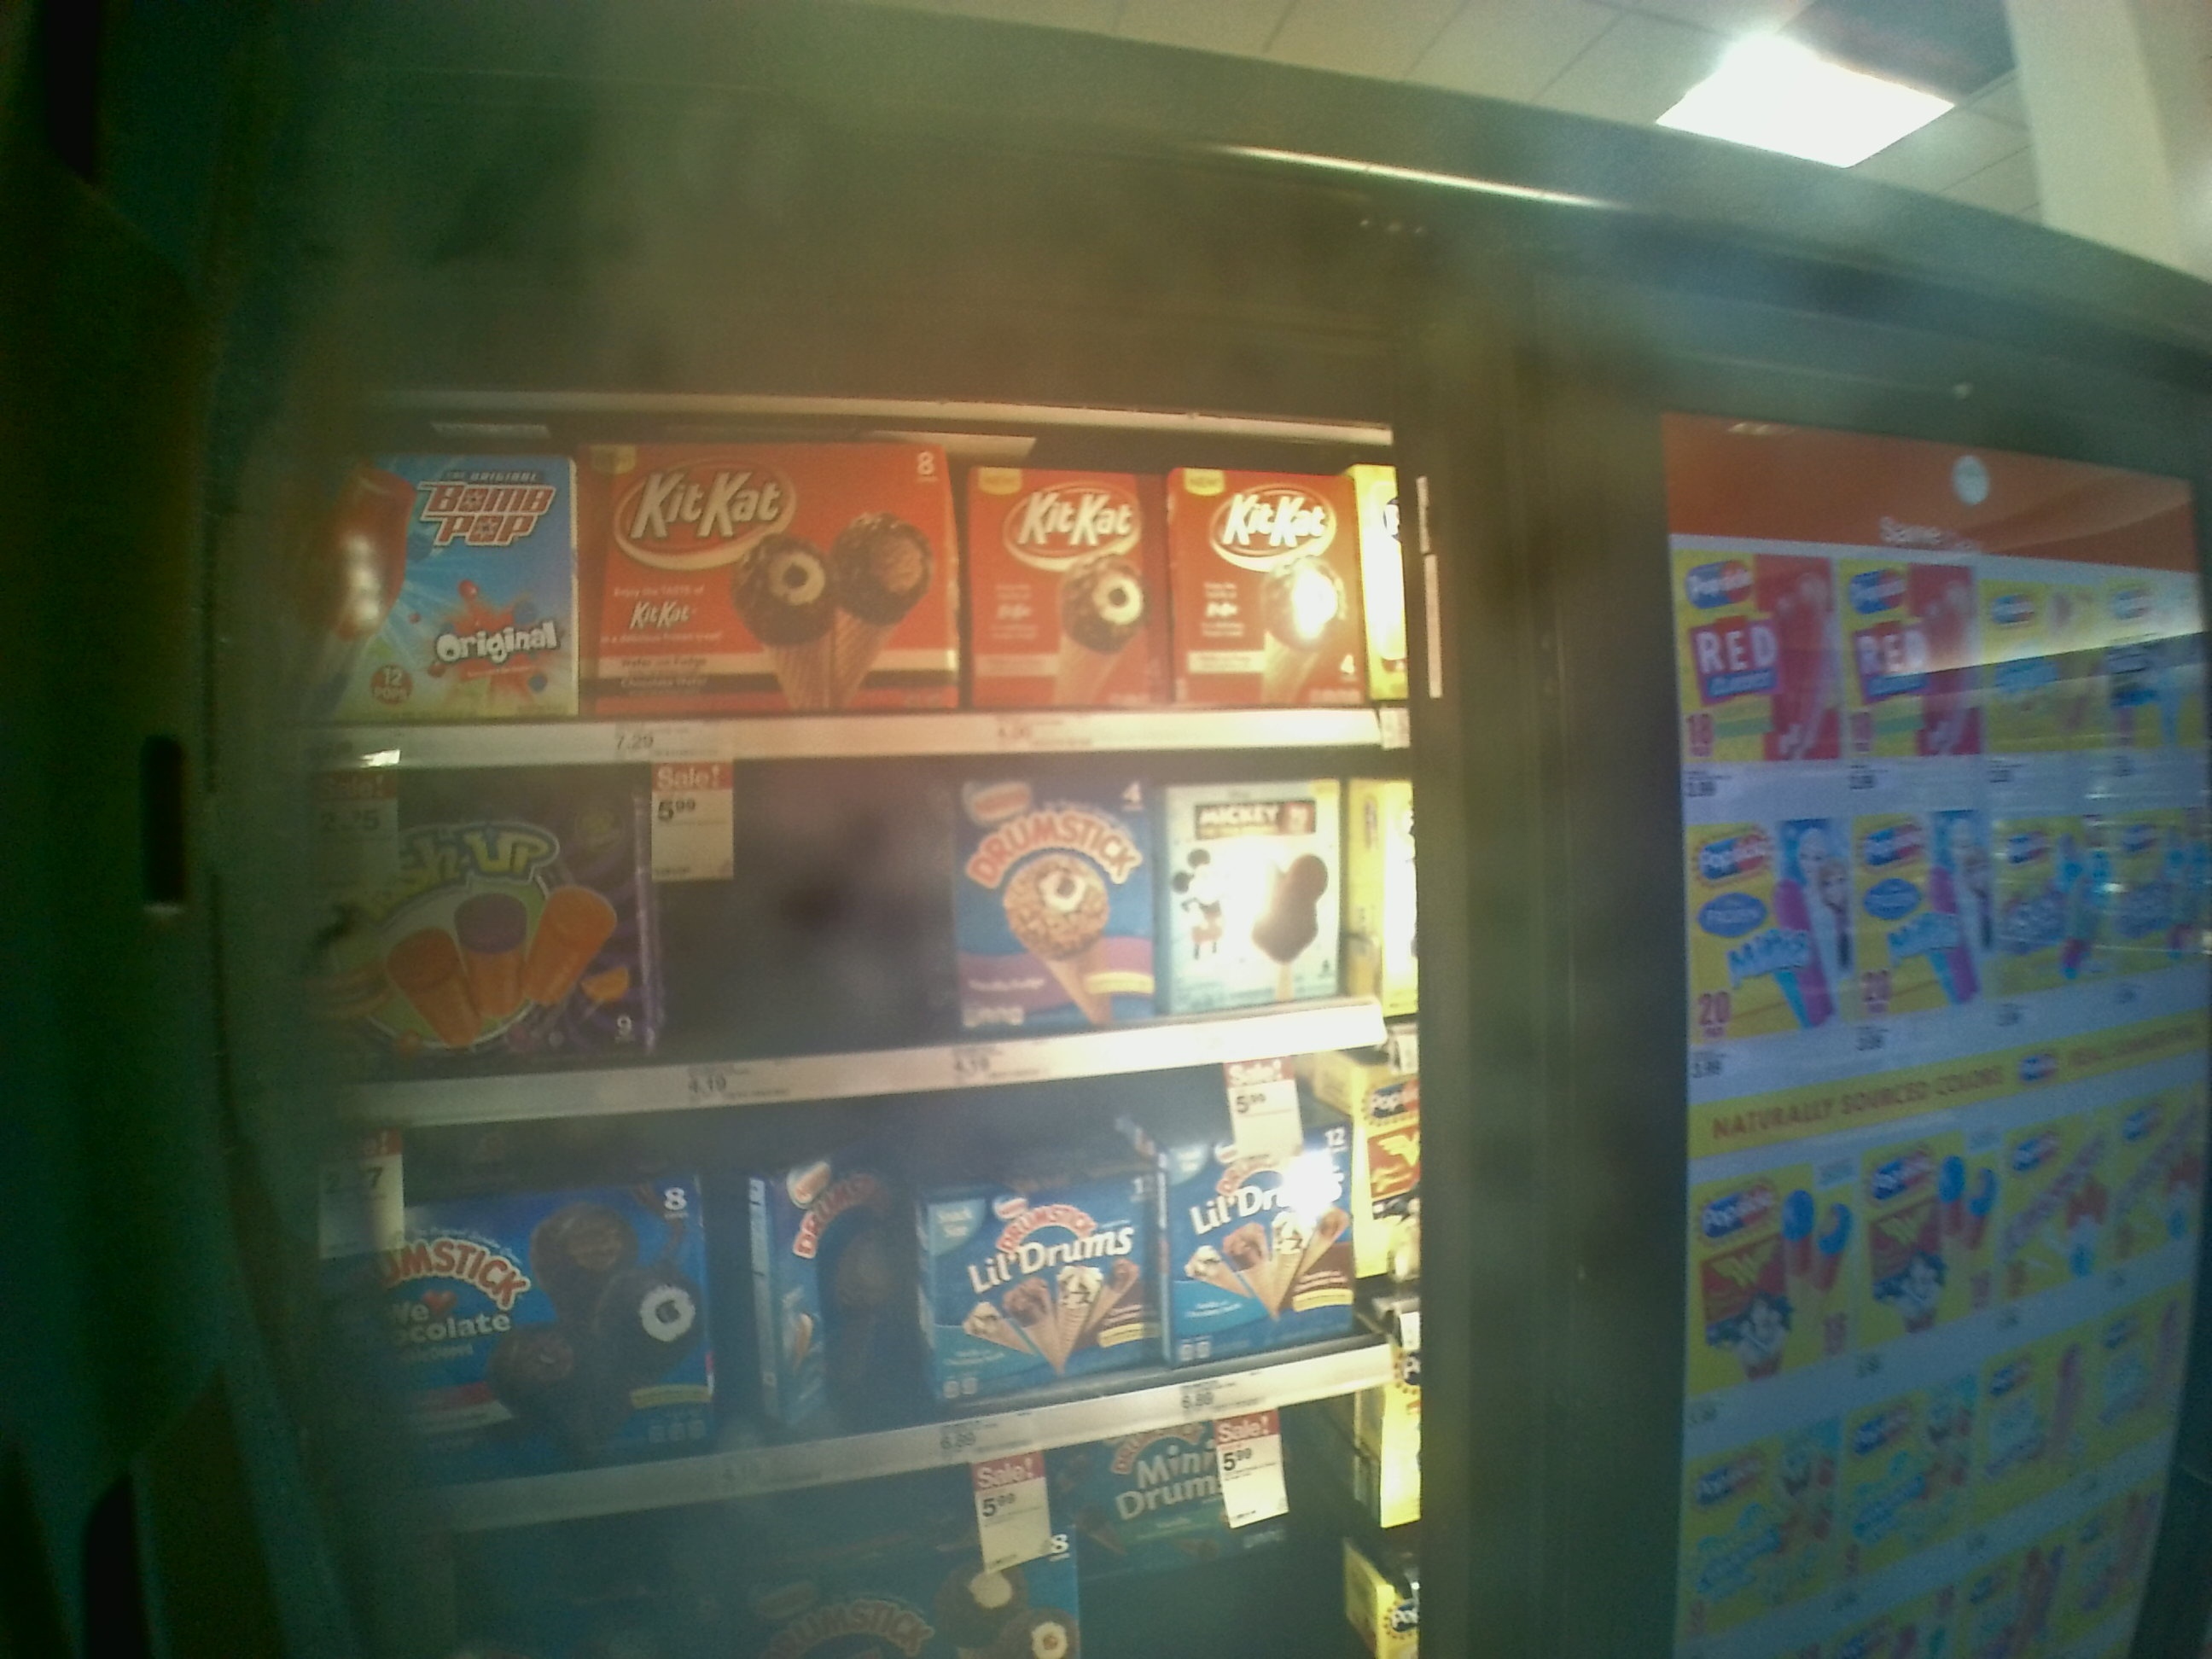shelf: (270, 763, 1423, 1121), (275, 404, 1420, 756)
